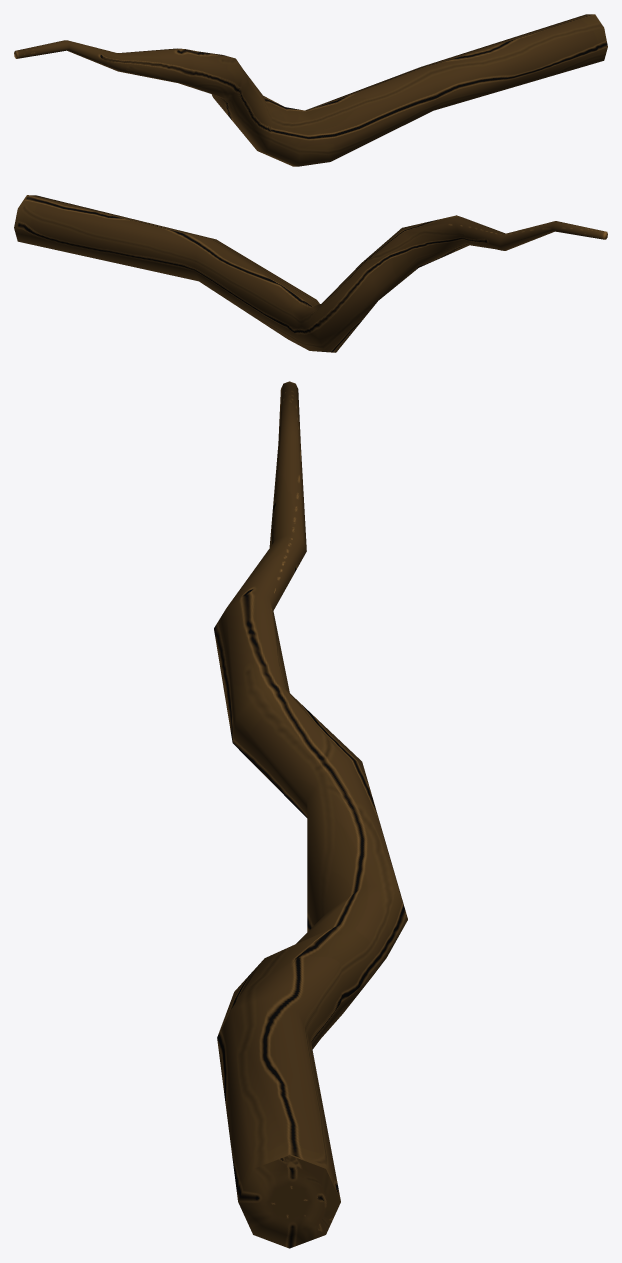
3 views of the same model, one above another, from view 1: azimuth 30°, elevation 25°; view 2: azimuth 150°, elevation 25°; view 3: azimuth 270°, elevation 25° (orthographic). The views are drawn at different scales.
Visible parts, largest first — view 1: Root00_LOD0; view 2: Root00_LOD0; view 3: Root00_LOD0.
Part boxes in pixels (left/top/right/bottom): Root00_LOD0: left=14, top=14, right=607, bottom=166; Root00_LOD0: left=14, top=195, right=607, bottom=352; Root00_LOD0: left=214, top=381, right=407, bottom=1248.
Size of what is drawn, in the model's own units: 137 by 41.96 by 19.86.
Materials: 1 (1 with a texture image).
